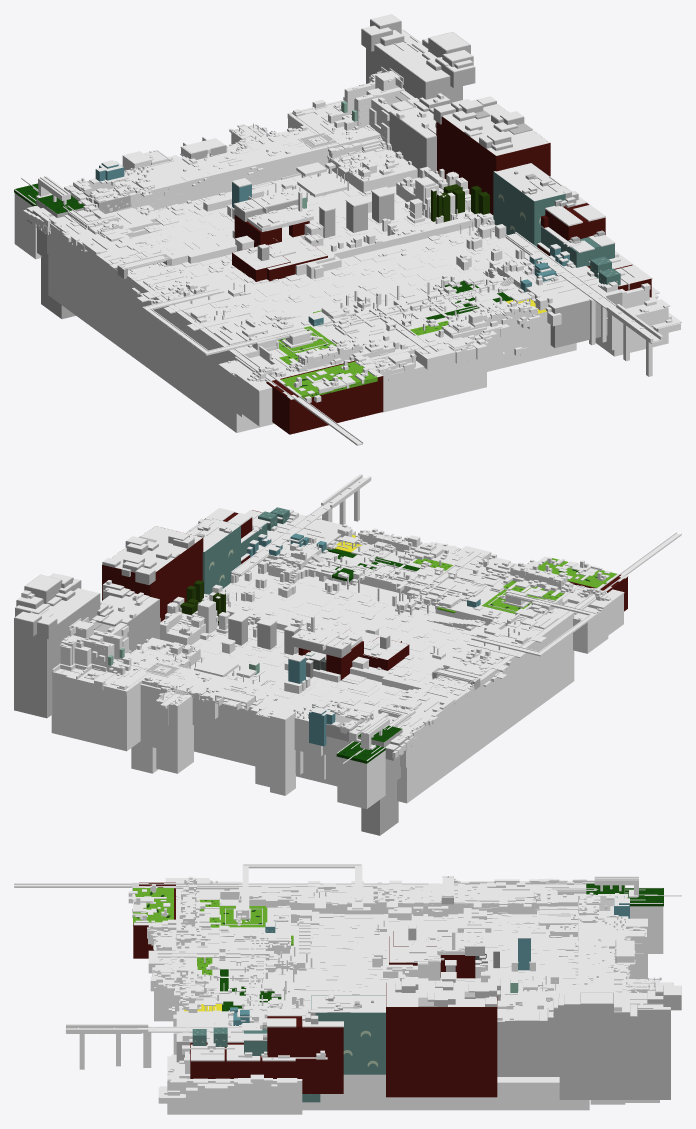
Rendered from CubesParentFinalLevel3.fbx.
3 renders of one model, top to bottom at view 1: azimuth 30°, elevation 25°; view 2: azimuth 150°, elevation 25°; view 3: azimuth 270°, elevation 25°, orthographic. The views are drawn at different scales.
Parts seen in each view (by area): view 1: Cube_Ref_Clone__313, Cube_Ref_Clone__43, Cube_Ref_Clone__416, Cube_Ref_Clone__1604, Cube_Ref_Clone__3436; view 2: Cube_Ref_Clone__313, Cube_Ref_Clone__43, Cube_Ref_Clone__416, Cube_Ref_Clone__3436, Cube_Ref_Clone__1604; view 3: Cube_Ref_Clone__313, Cube_Ref_Clone__43, Cube_Ref_Clone__416, Cube_Ref_Clone__3436, Cube_Ref_Clone__1604.
Part boxes in pixels (<box>): Cube_Ref_Clone__313: <box>14,14,576,432</box>; Cube_Ref_Clone__43: <box>393,96,681,376</box>; Cube_Ref_Clone__416: <box>134,275,531,445</box>; Cube_Ref_Clone__1604: <box>188,191,474,312</box>; Cube_Ref_Clone__3436: <box>27,123,474,280</box>; Cube_Ref_Clone__313: <box>14,573,574,835</box>; Cube_Ref_Clone__43: <box>102,474,377,650</box>; Cube_Ref_Clone__416: <box>322,529,681,679</box>; Cube_Ref_Clone__3436: <box>138,584,478,787</box>; Cube_Ref_Clone__1604: <box>198,592,461,684</box>; Cube_Ref_Clone__313: <box>239,864,681,1110</box>; Cube_Ref_Clone__43: <box>65,977,559,1114</box>; Cube_Ref_Clone__416: <box>14,864,428,1021</box>; Cube_Ref_Clone__3436: <box>437,876,661,999</box>; Cube_Ref_Clone__1604: <box>293,920,484,1000</box>.
Size of the model in its own units: 43537 by 16577 by 60659.
